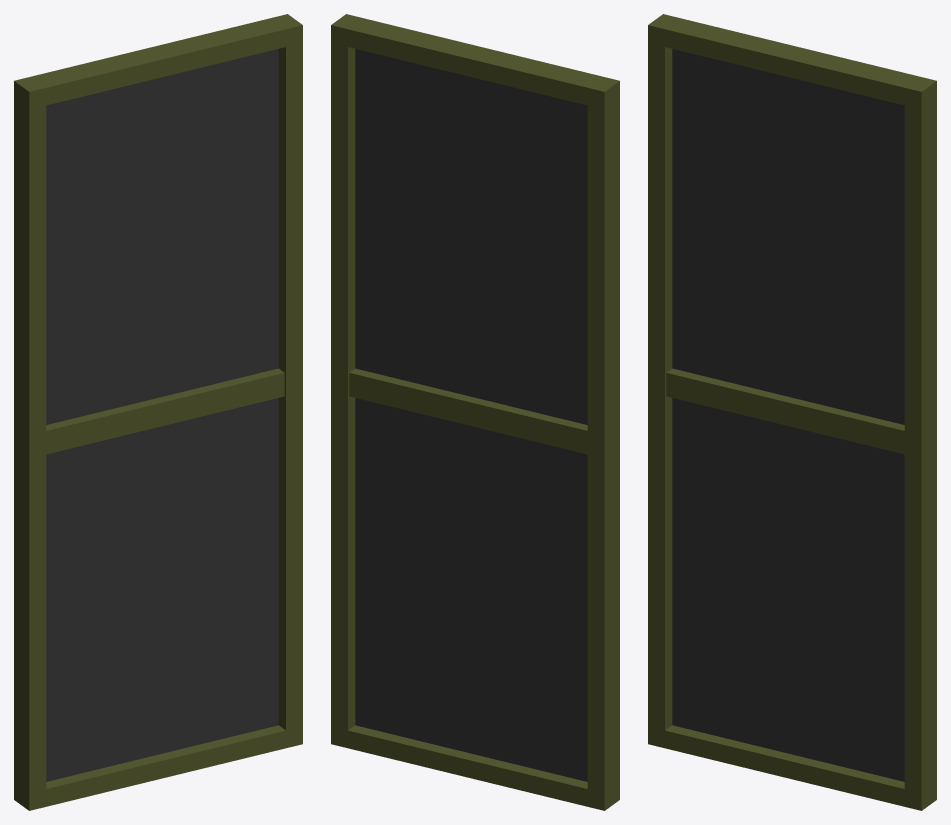
File: SM_Prop_Gunlocker_Door_01.fbx
The picture shows the model from 3 angles, left to right: view 1: azimuth 30°, elevation 25°; view 2: azimuth 150°, elevation 25°; view 3: azimuth 330°, elevation 25°; orthographic projection.
Parts seen in each view (by area): view 1: SM_Prop_Gunlocker_Door_01; view 2: SM_Prop_Gunlocker_Door_01; view 3: SM_Prop_Gunlocker_Door_01.
Part boxes in pixels (x1,y1,x2,y2): SM_Prop_Gunlocker_Door_01: (14,14,302,810); SM_Prop_Gunlocker_Door_01: (331,14,619,810); SM_Prop_Gunlocker_Door_01: (648,14,936,810).
Bounding box in the file's own units: 66.73 × 167 × 6.42.
